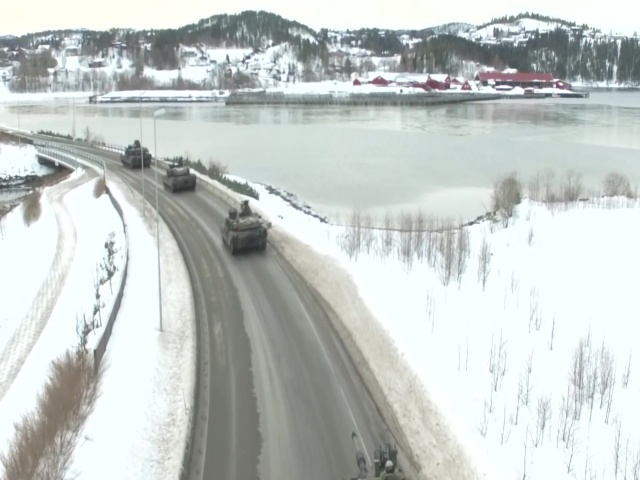vehicle: (219, 202, 270, 257), (163, 162, 198, 197), (120, 141, 153, 168)
